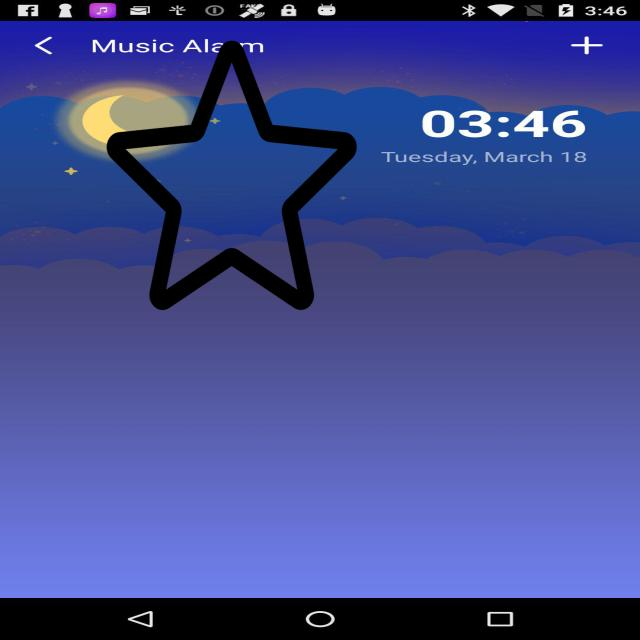forced continuity: (106, 34, 356, 316)
